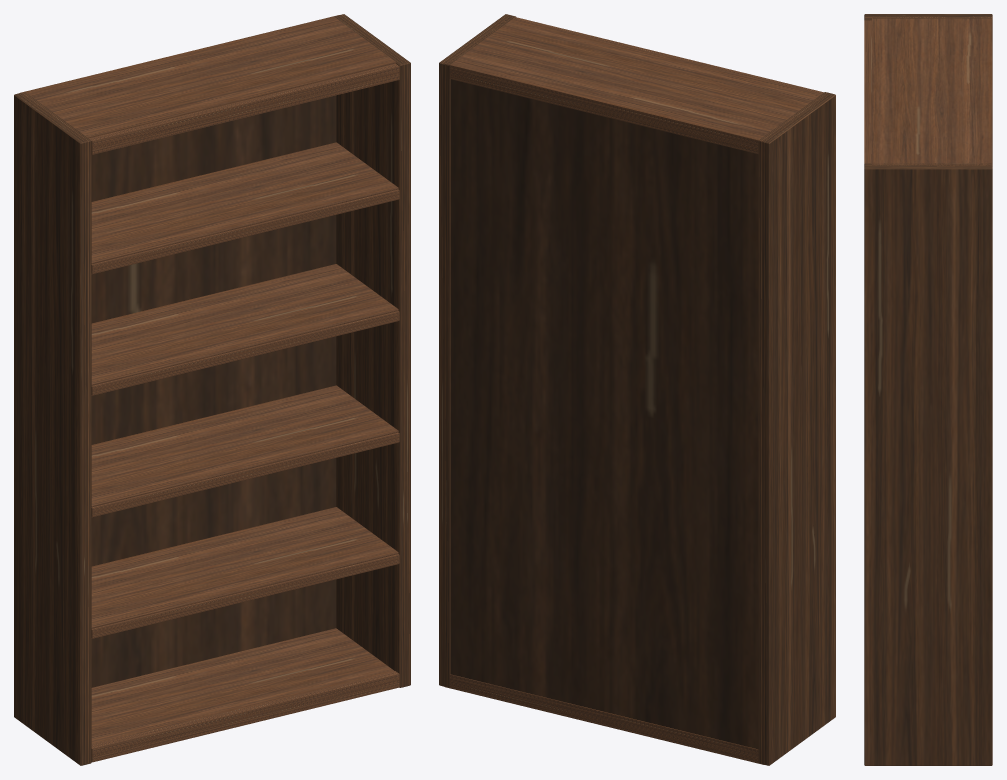
The model's file is bookshelf.glb.
The picture shows the model from 3 angles, left to right: view 1: azimuth 30°, elevation 25°; view 2: azimuth 150°, elevation 25°; view 3: azimuth 270°, elevation 25°; orthographic projection. The views are drawn at different scales.
Parts seen in each view (by area): view 1: core_bookshelf; view 2: core_bookshelf; view 3: core_bookshelf.
Boxes of the visible parts, x1,y1,x2,y2 form: core_bookshelf: (14, 14, 410, 765); core_bookshelf: (439, 14, 835, 765); core_bookshelf: (864, 14, 992, 765).
Bounding box in the file's own units: 1 × 1.8 × 0.35.
Materials: 1 (1 with a texture image).
